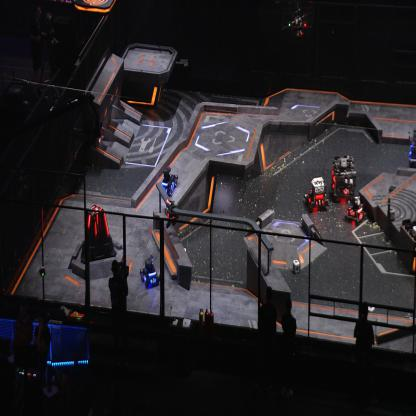car: (330, 152, 356, 204), (303, 175, 330, 213), (343, 194, 368, 225), (139, 254, 161, 289), (158, 166, 179, 196), (409, 127, 415, 170)
